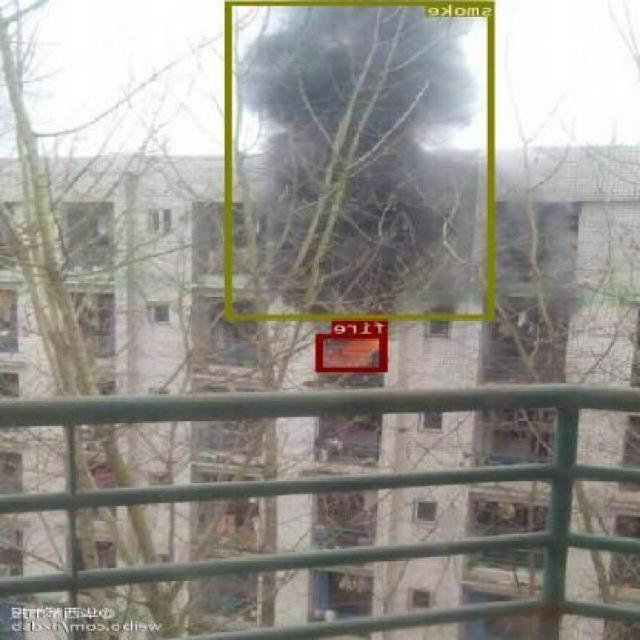Fire: (318, 333, 389, 370)
Smoke: (228, 0, 497, 317)
